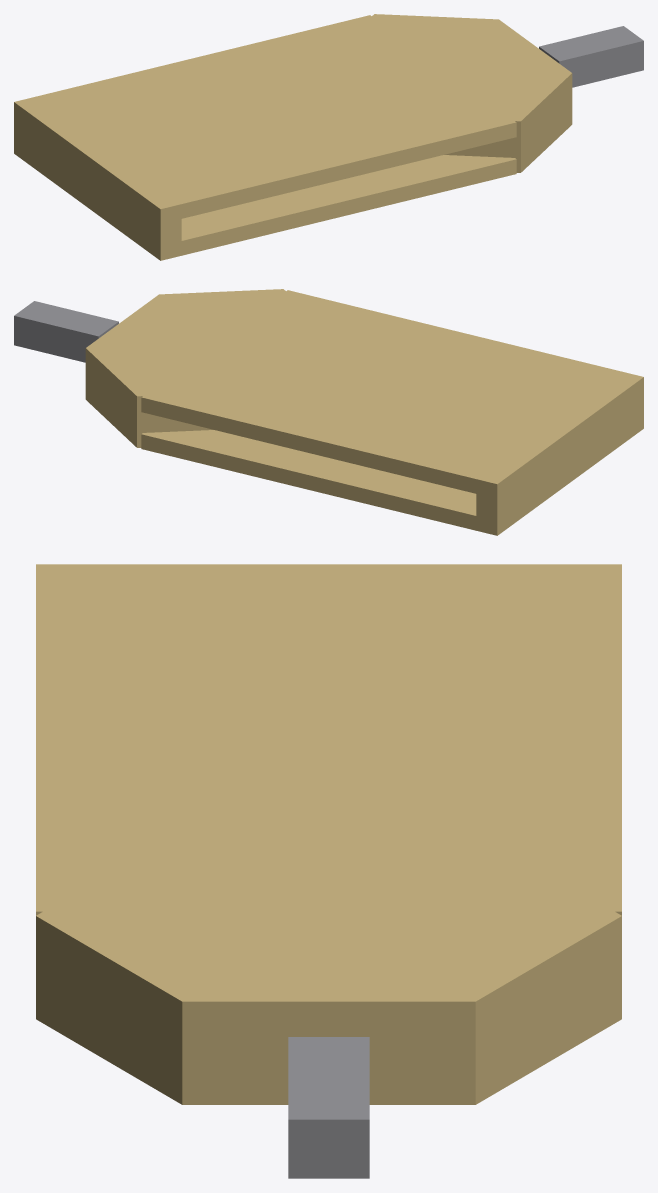
Rendered from prop-tip-chape-blank.fbx.
3 views of the same model, one above another, from view 1: azimuth 30°, elevation 25°; view 2: azimuth 150°, elevation 25°; view 3: azimuth 270°, elevation 25° (orthographic). The views are drawn at different scales.
Visible parts, largest first — view 1: prop-tip-chape-blank; view 2: prop-tip-chape-blank; view 3: prop-tip-chape-blank.
Boxes of the visible parts, bbox=[...] form: prop-tip-chape-blank: bbox=[14, 14, 643, 260]; prop-tip-chape-blank: bbox=[14, 289, 643, 535]; prop-tip-chape-blank: bbox=[36, 564, 621, 1178].
Size of the model in its own units: 7.75 by 0.7 by 3.6.
